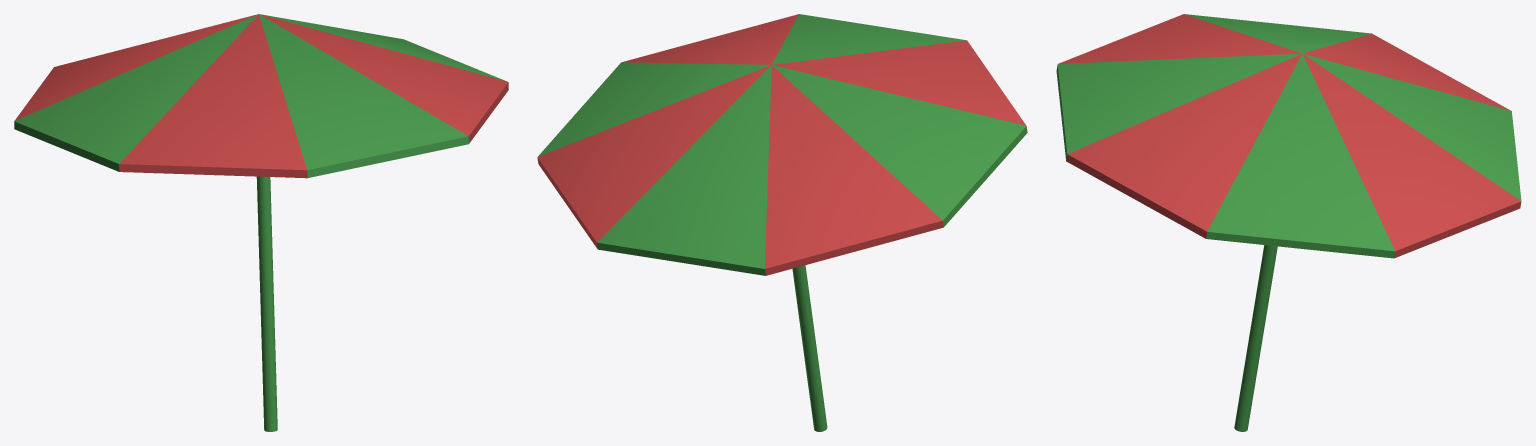
The model's file is suncobran1.fbx.
The picture shows the model from 3 angles, left to right: view 1: azimuth 30°, elevation 25°; view 2: azimuth 150°, elevation 25°; view 3: azimuth 270°, elevation 25°; orthographic projection.
Parts seen in each view (by area): view 1: Suncobran1.001; view 2: Suncobran1.001; view 3: Suncobran1.001.
Part boxes in pixels (bbox=[...]): Suncobran1.001: bbox=[14, 14, 508, 431]; Suncobran1.001: bbox=[537, 14, 1027, 431]; Suncobran1.001: bbox=[1056, 14, 1521, 431].
Size of the model in its own units: 304 by 275 by 301.
